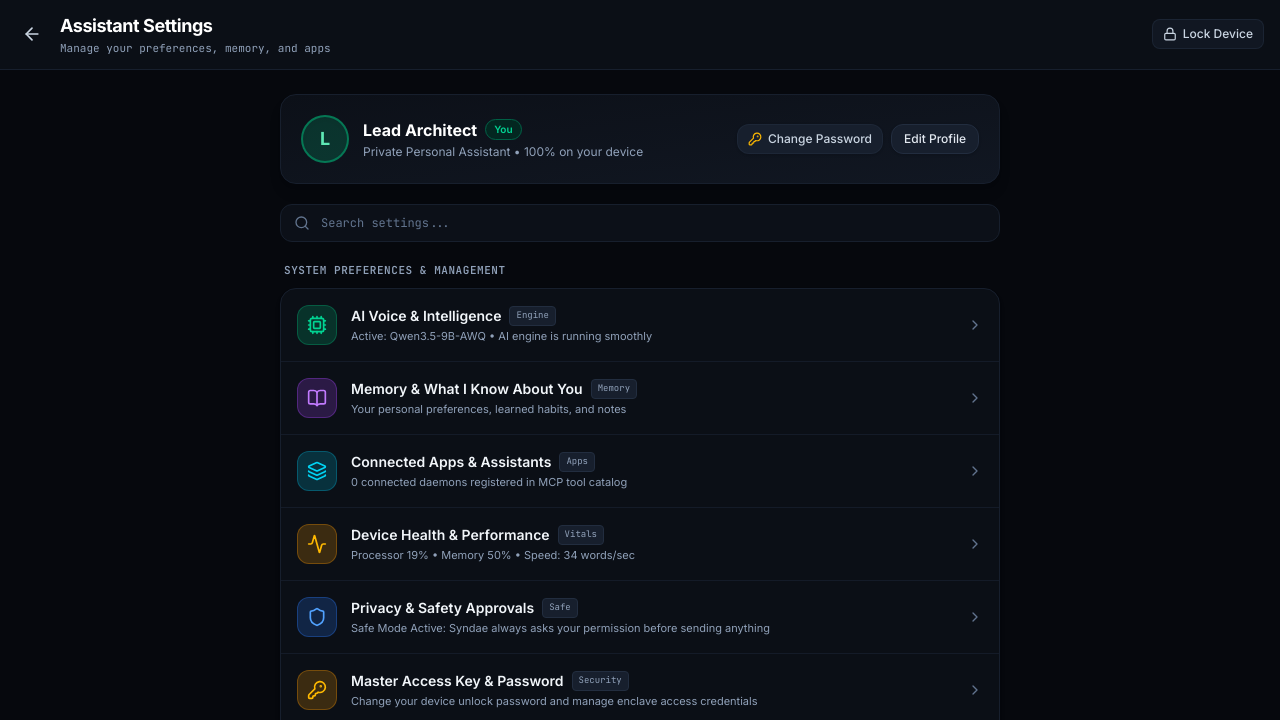
SettingsHub Android-style System Menu Tests › search filter narrows settings categories
This screenshot has width=1280, height=720.
In the field with placeholder "Search settings...": {"x": 640, "y": 222} x1=280 y1=204 x2=1000 y2=242, type "apps"
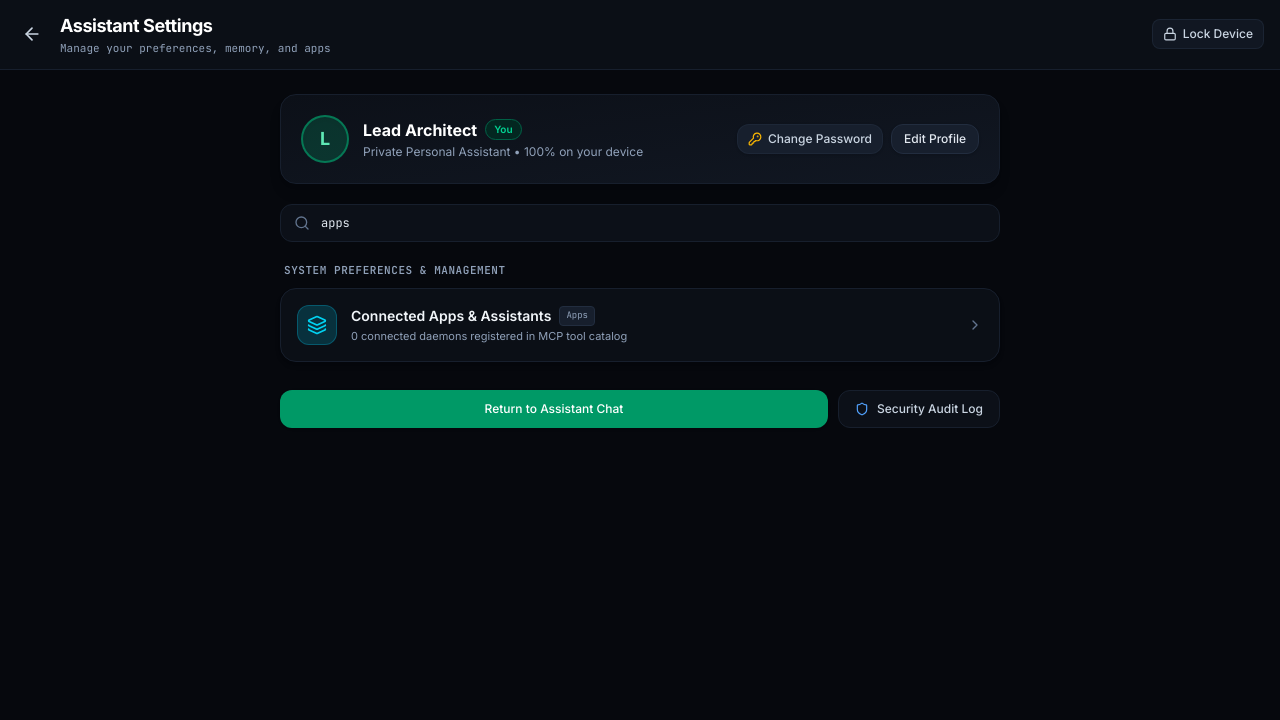
Expected: the text "Connected Apps & Assistants" is shown, x1=351 y1=306 x2=551 y2=326
Expected: the text "Memory & What I Know About You" is gone
